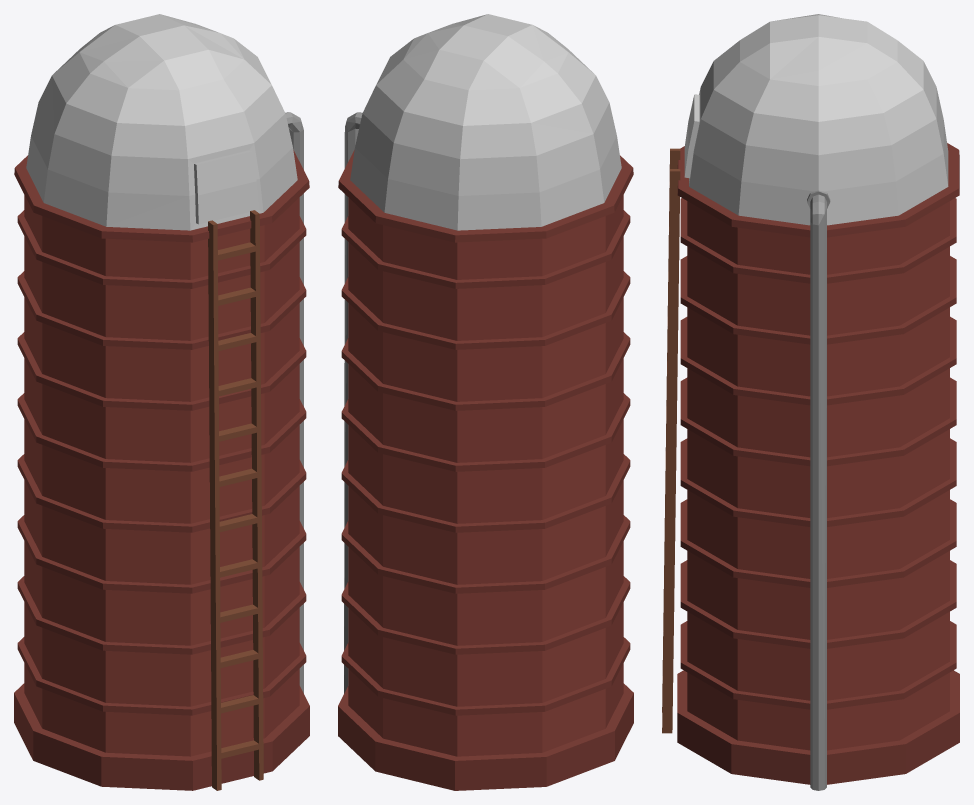
Rendered from silo.glb.
The picture shows the model from 3 angles, left to right: view 1: azimuth 30°, elevation 25°; view 2: azimuth 150°, elevation 25°; view 3: azimuth 270°, elevation 25°; orthographic projection.
Parts seen in each view (by area): view 1: Silo_Cylinder.007; view 2: Silo_Cylinder.007; view 3: Silo_Cylinder.007.
Part boxes in pixels (left/top/right/bottom): Silo_Cylinder.007: left=14, top=14, right=309, bottom=790; Silo_Cylinder.007: left=338, top=14, right=633, bottom=790; Silo_Cylinder.007: left=662, top=14, right=959, bottom=790.
Size of the model in its own units: 3.67 by 9.07 by 3.51.
1 material, 1 textured.
